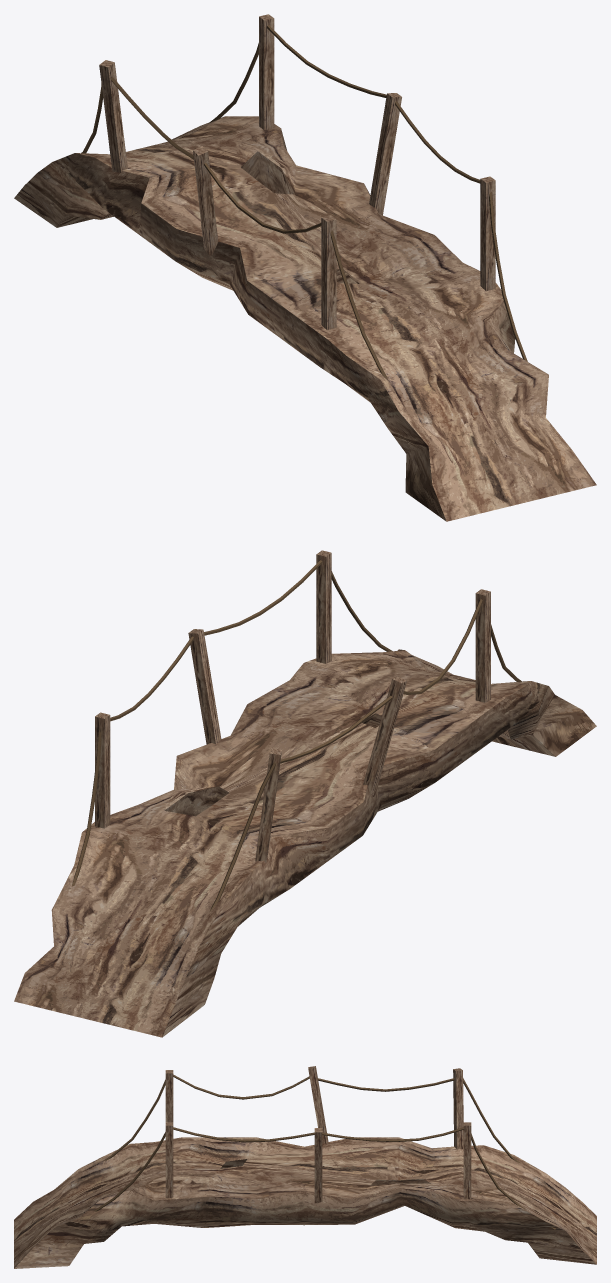
The model's file is bridge2.fbx.
3 views of the same model, one above another, from view 1: azimuth 30°, elevation 25°; view 2: azimuth 150°, elevation 25°; view 3: azimuth 270°, elevation 25° (orthographic). The views are drawn at different scales.
Parts seen in each view (by area): view 1: polySurface2; view 2: polySurface2; view 3: polySurface2.
Part boxes in pixels (<box>): polySurface2: <box>14,14,596,521</box>; polySurface2: <box>14,550,596,1037</box>; polySurface2: <box>14,1066,596,1268</box>.
Size of the model in its own units: 84.91 by 85.67 by 306.
